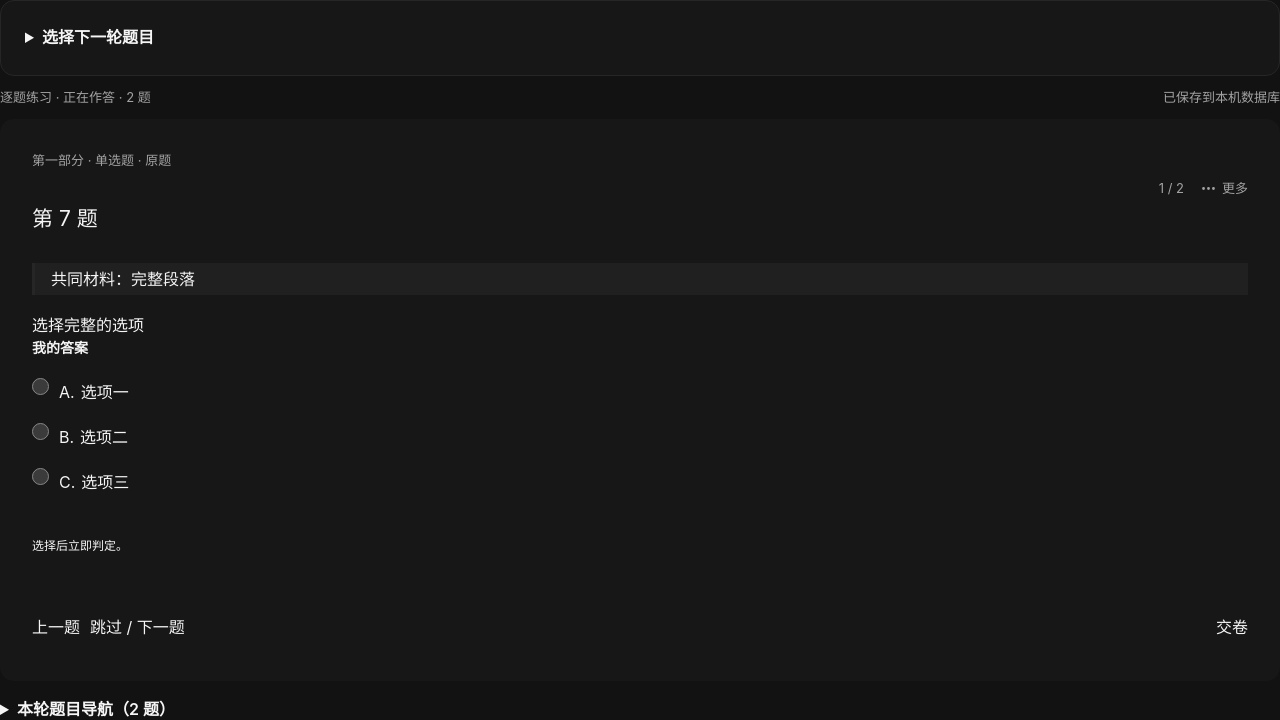
Test: auto advances only a freshly correct answer after saving and supports staying on the question
Click the button "更多" at x=1224, y=189, box [1200,179,1248,199]
(page scrolled)
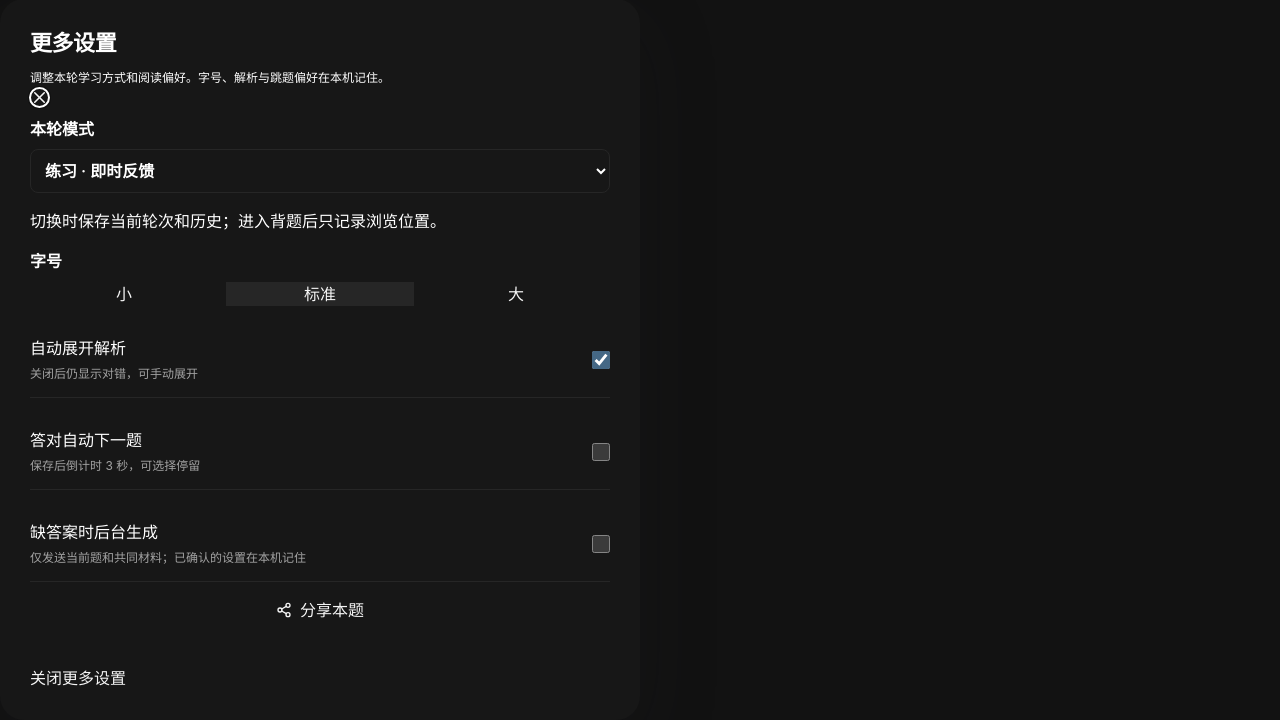
Click the checkbox named "答对自动下一题" at x=601, y=452, box [592,443,610,461]
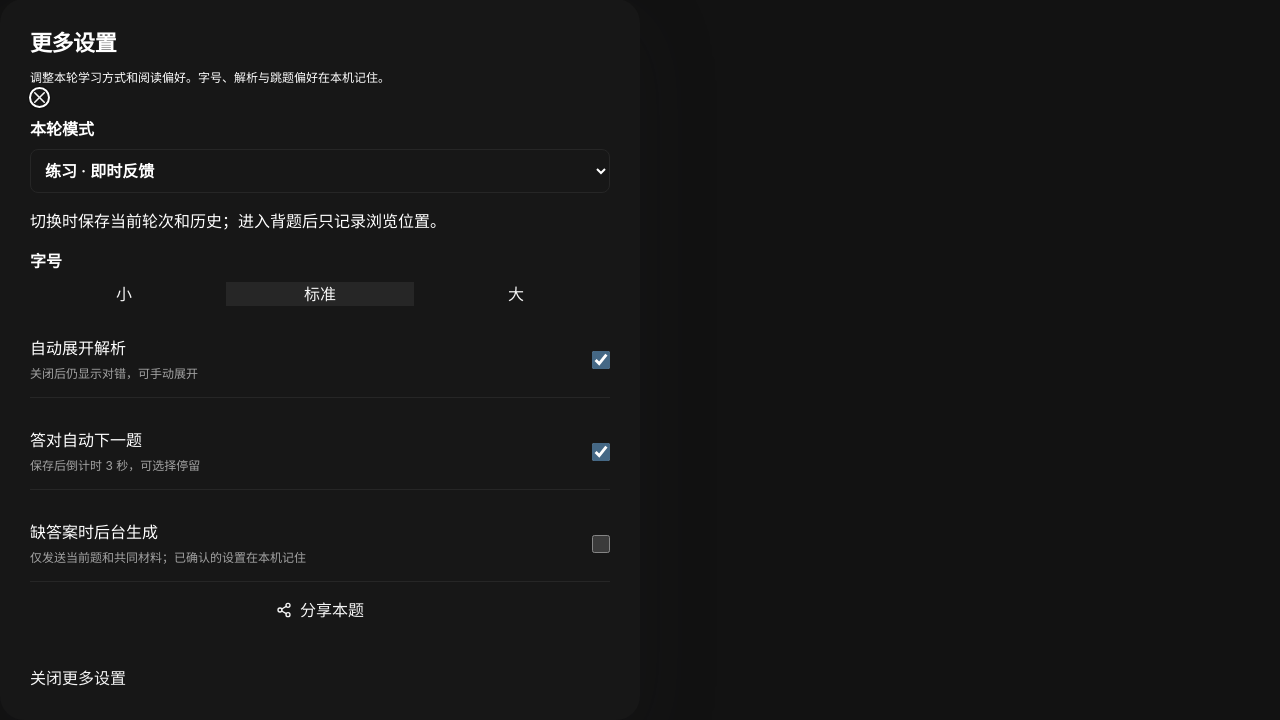
Click the button "关闭更多设置" at x=78, y=678, box [30,666,126,690]
(page scrolled)
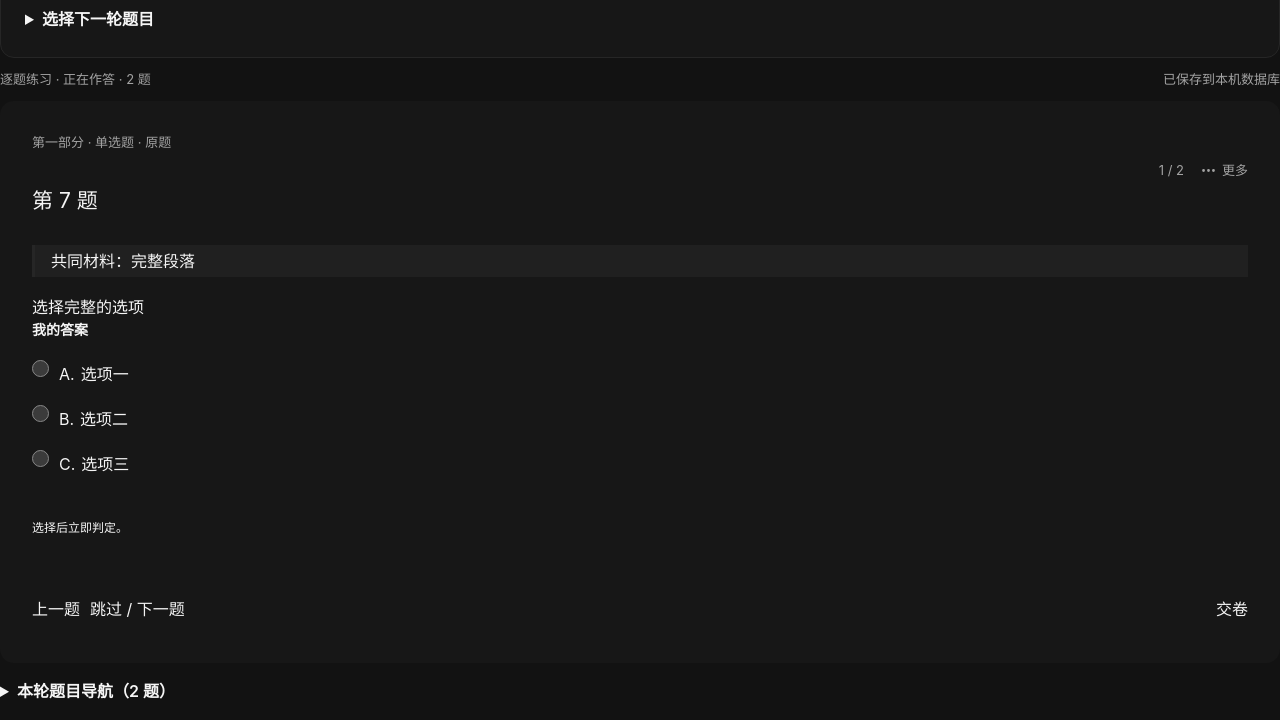
Click the radio button labelled "A. 选项一" at x=40, y=369, box [32,360,49,378]
Wait 3400 ms
(page scrolled)
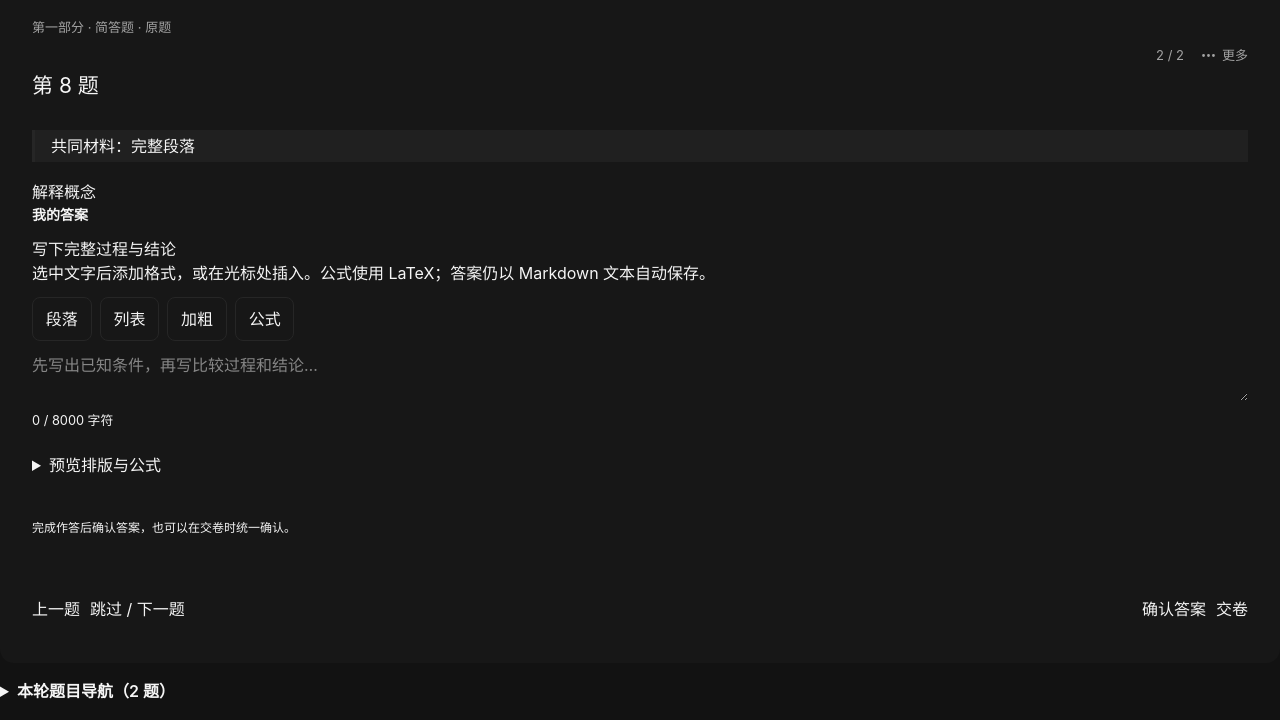
Expected: the button "交卷" is shown, [1216,587,1248,631]
Now the heading "第 8 题" is shown, box [32,73,99,98]
Click the button "上一题" at x=56, y=609, box [32,587,80,631]
Wait 4000 ms
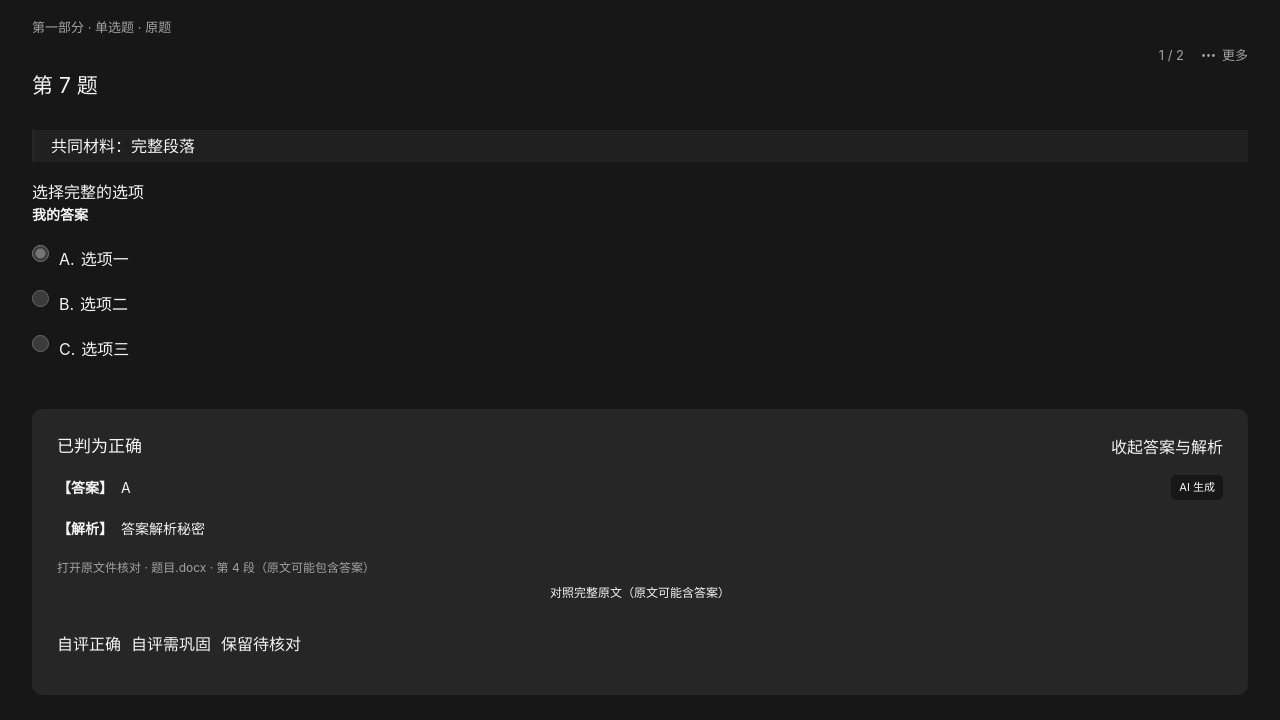
Now the heading "第 7 题" is shown, box [32,73,98,98]
